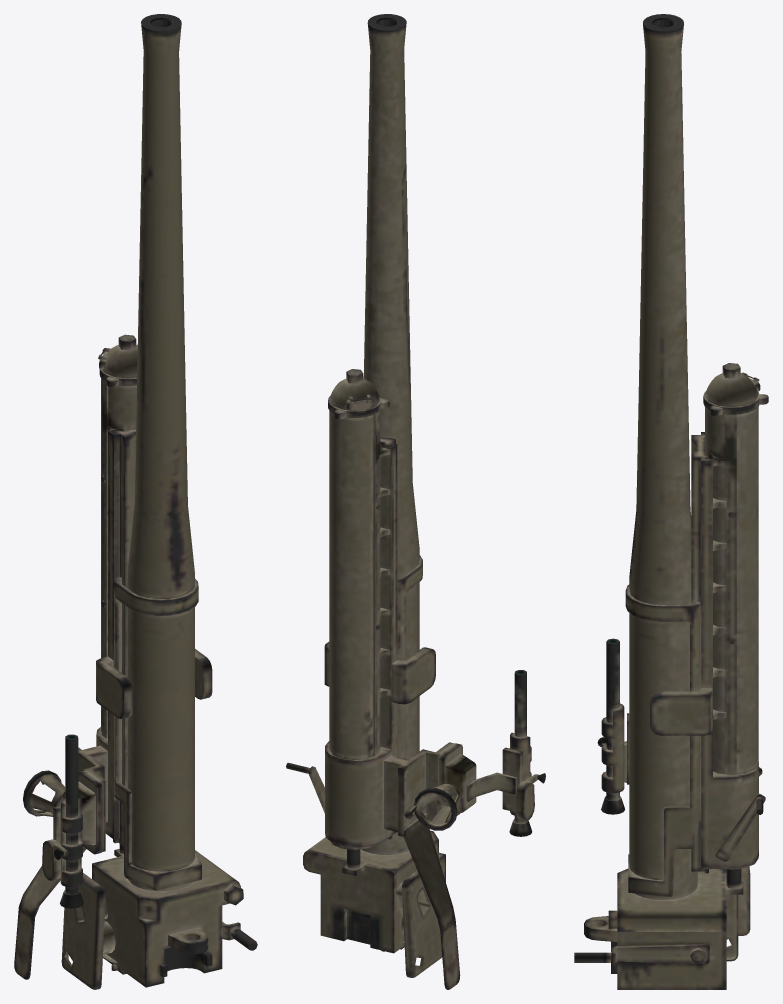
Rendered from Gun_02.glb.
3 renders of one model, left to right at view 1: azimuth 30°, elevation 25°; view 2: azimuth 150°, elevation 25°; view 3: azimuth 270°, elevation 25°, orthographic. The views are drawn at different scales.
Parts seen in each view (by area): view 1: set_0_group_0; view 2: set_0_group_0; view 3: set_0_group_0.
Boxes of the visible parts, <box> form: set_0_group_0: <box>14,14,257,989</box>; set_0_group_0: <box>286,14,545,989</box>; set_0_group_0: <box>574,14,768,989</box>.
Bounding box in the file's own units: 0.6064 × 2.9 × 0.5282.
Materials: 1 (1 with a texture image).
